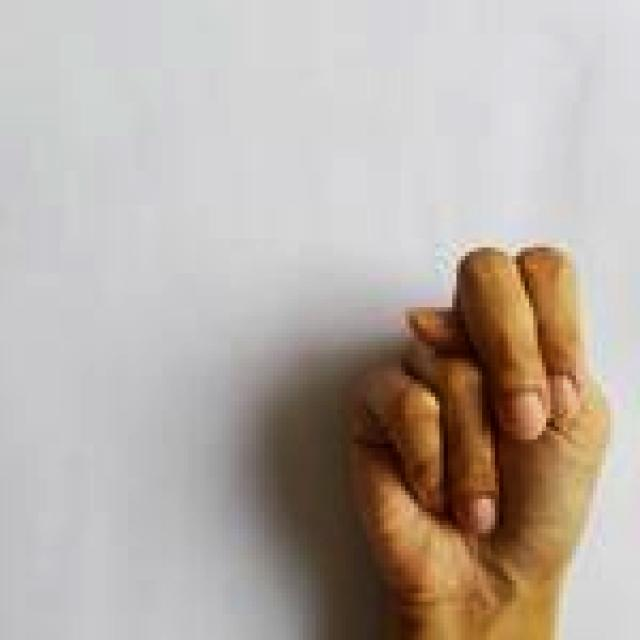N: (340, 244, 629, 640)
